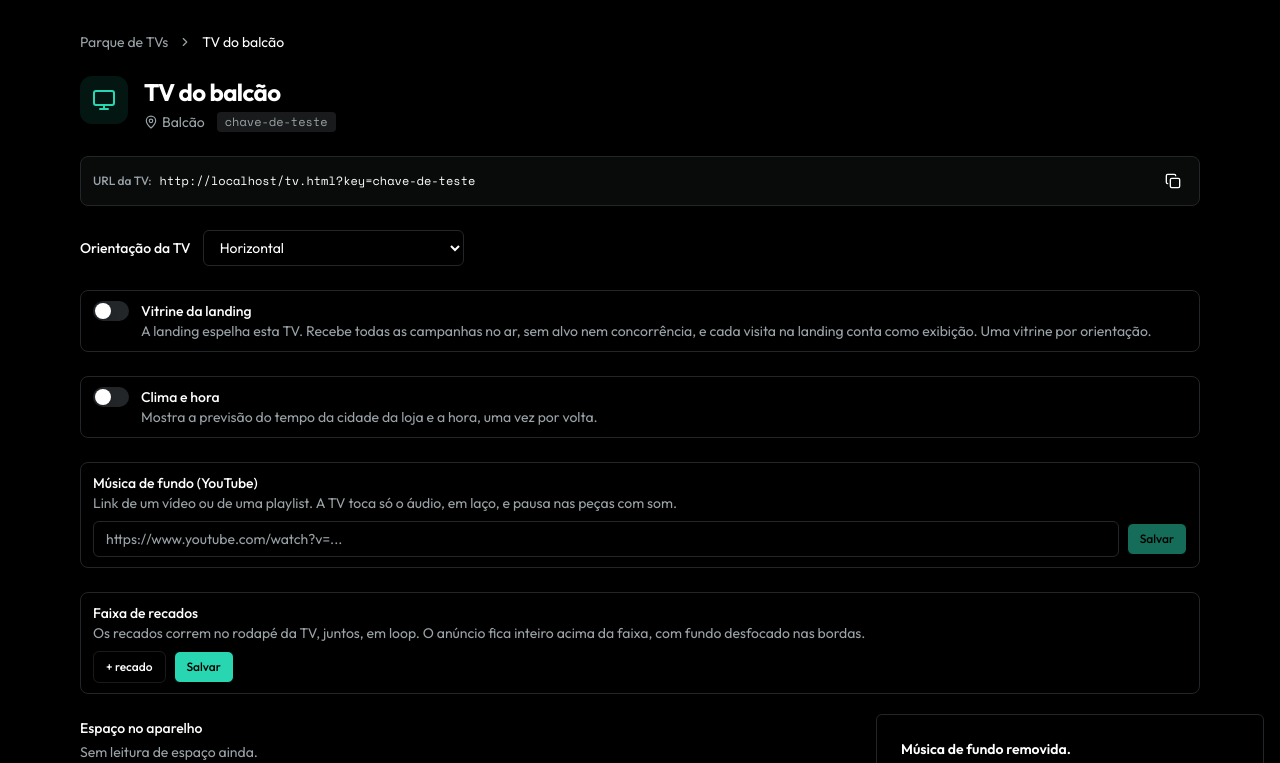
Test: música de fundo › link recusado pelo servidor aparece no toast e o campo mantém o digitado
Type "https://exemplo.com/musica" into the field labelled "Música de fundo (YouTube)". click: (606, 539)
box: [93,521,1119,557]
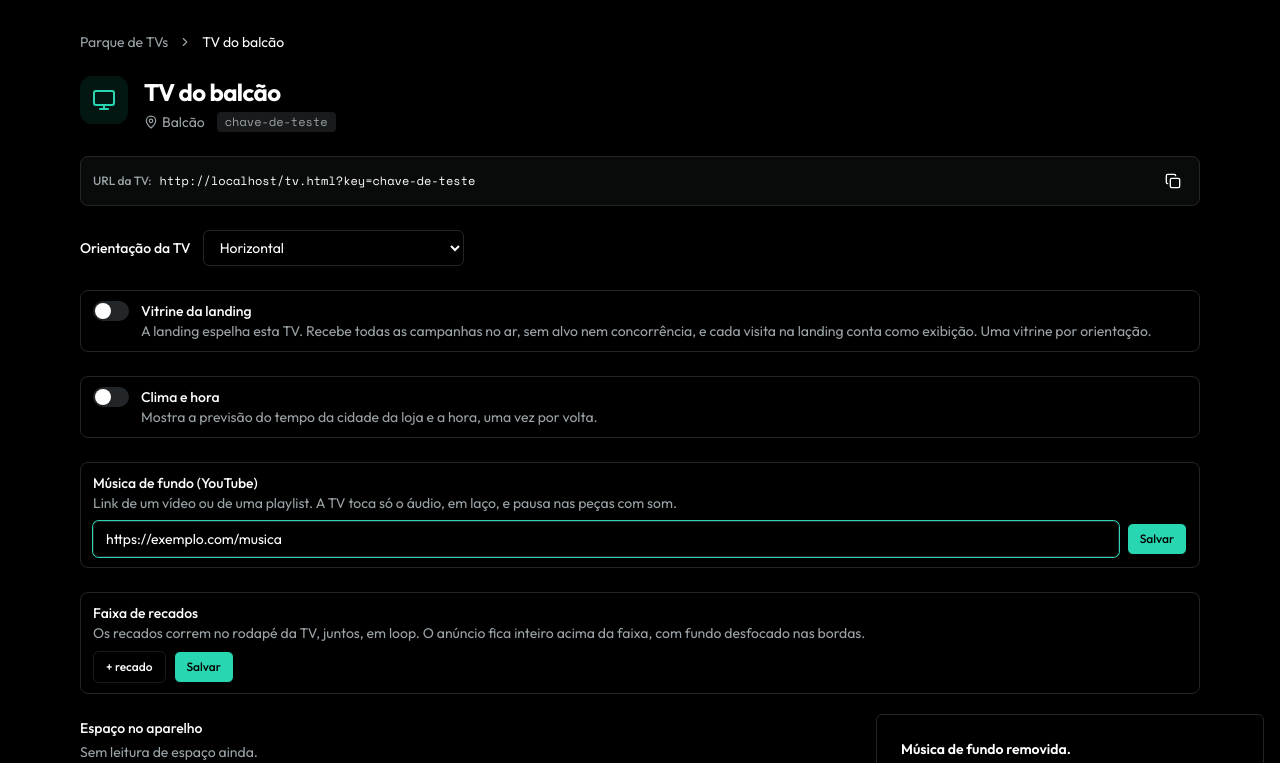
Click the 1st button "Salvar". click: click(1157, 539)
box: [1127,523,1187,555]
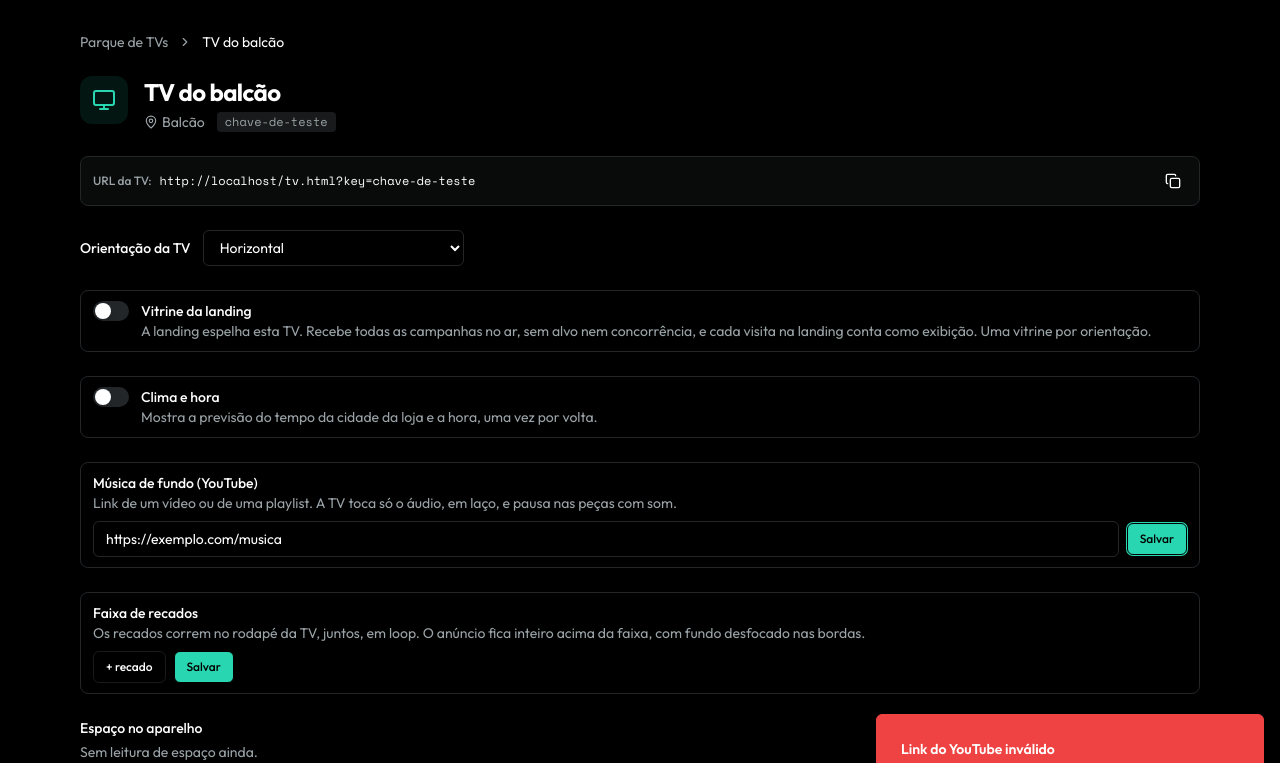
Expected: the text "Link do YouTube inválido" is shown, [901,739,1055,759]
